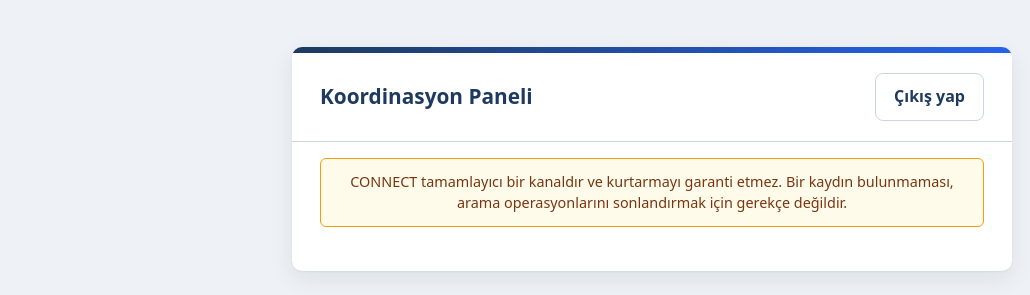
Test: AppLayout logout button (D1/D2) › still signs out and reaches /login when the backend call fails
Step 1. Click the button "Çıkış yap" → (930, 97), box [875,73,984,121]
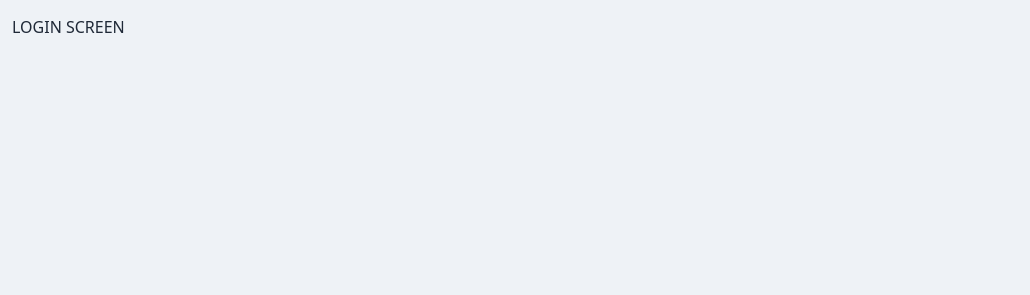
Expected: the text "LOGIN SCREEN" is shown, [12,16,125,38]
